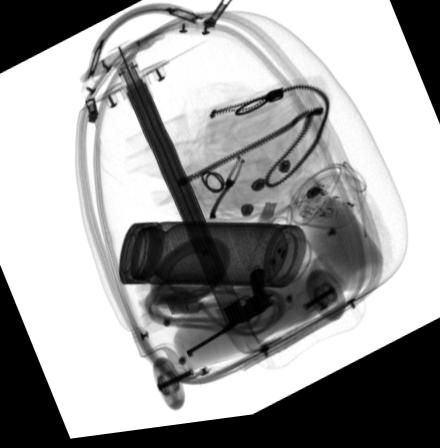Gun: (183, 274, 274, 365)
